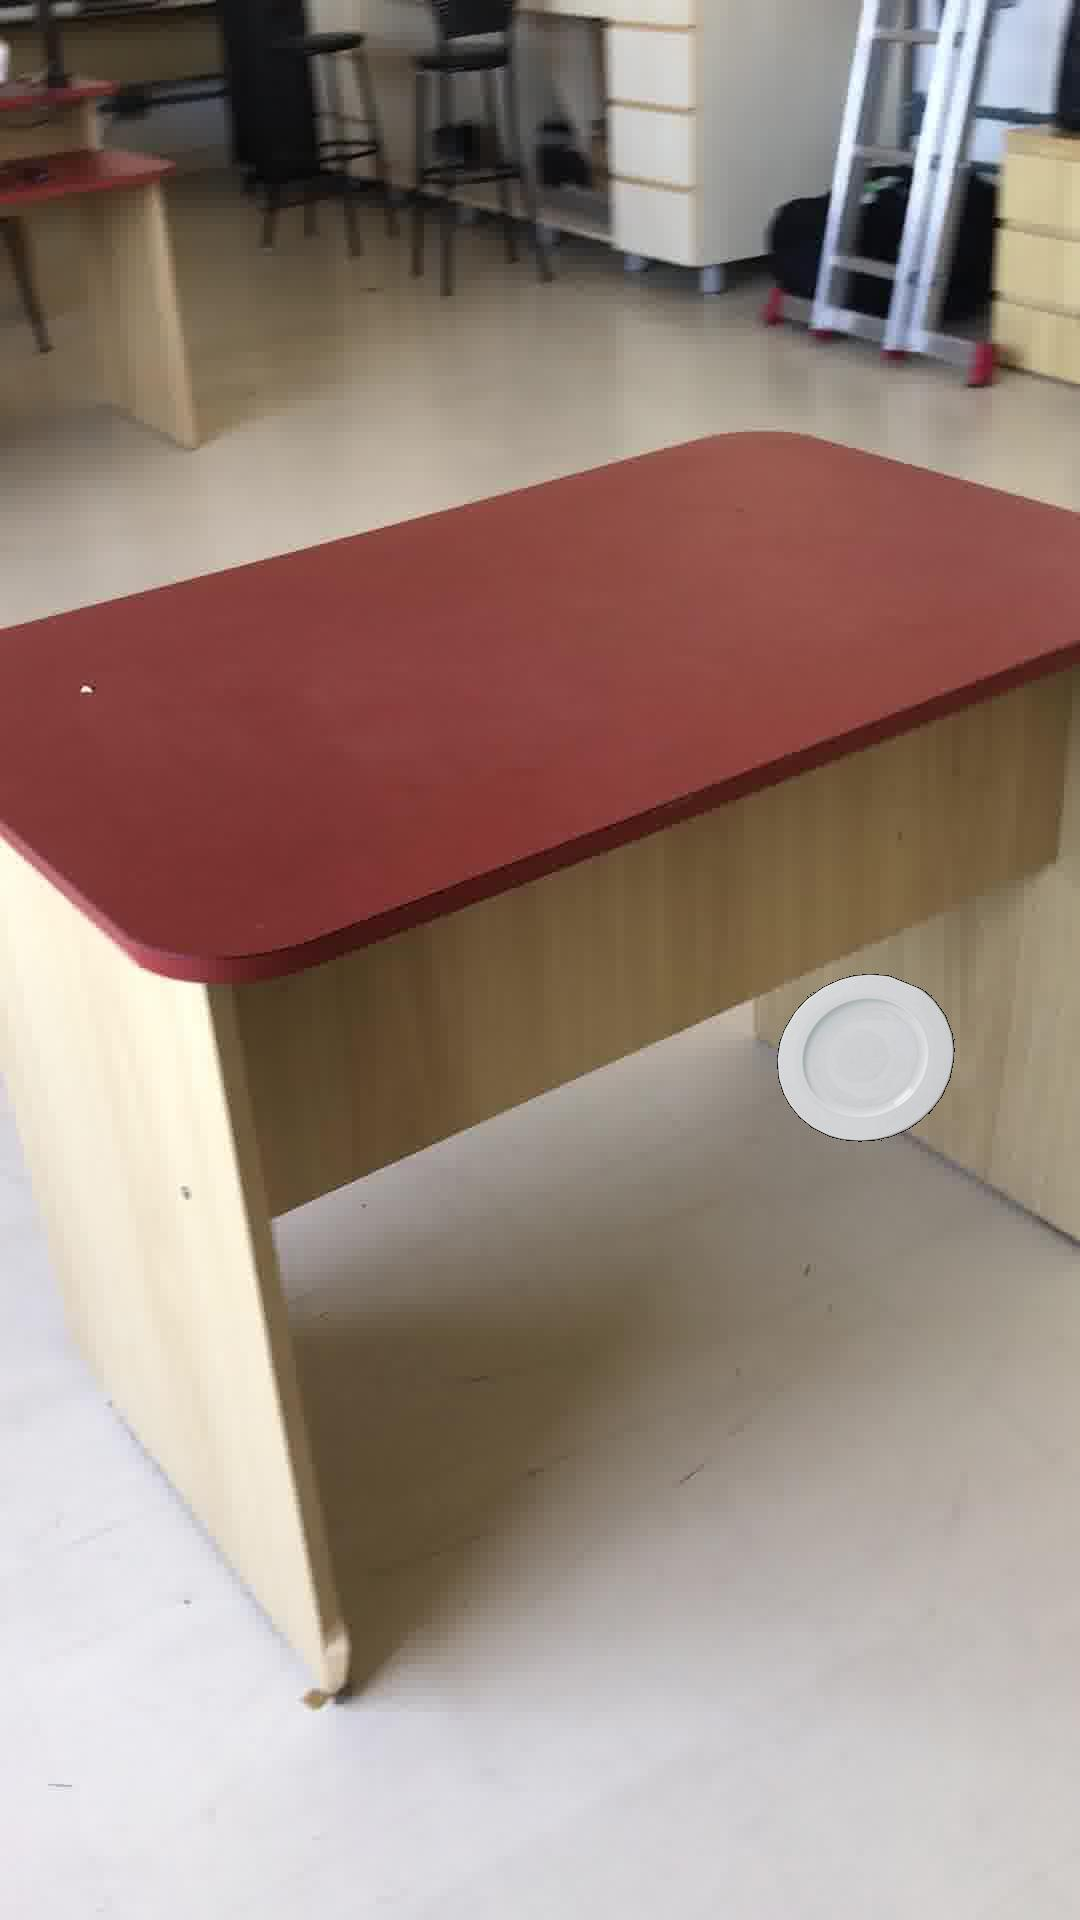plate: (775, 973, 953, 1141)
